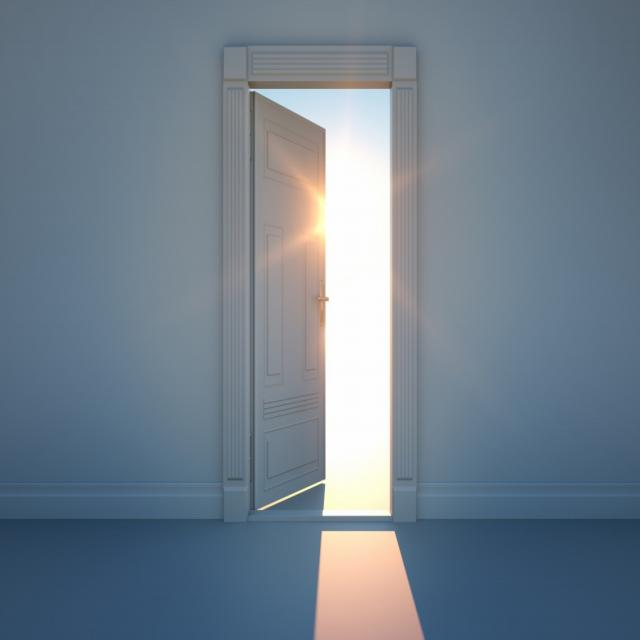open: (242, 80, 400, 513)
